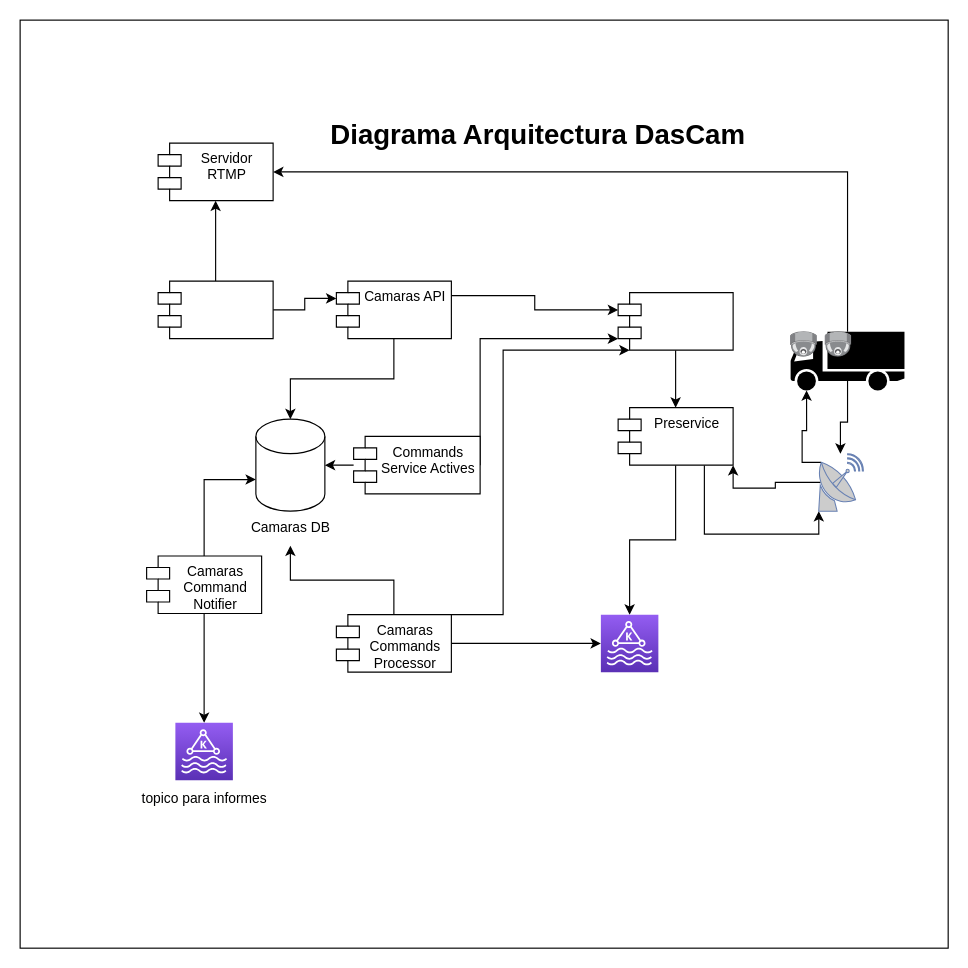
This 968x968 diagram has some shape labels left out. Each missing label, with the centre of its shape:
"Camaras UI" goes at pixel 215 309.
"Commands API" goes at pixel 675 321.
"queuing.traffic.devicerichresponse" goes at pixel 629 643.
